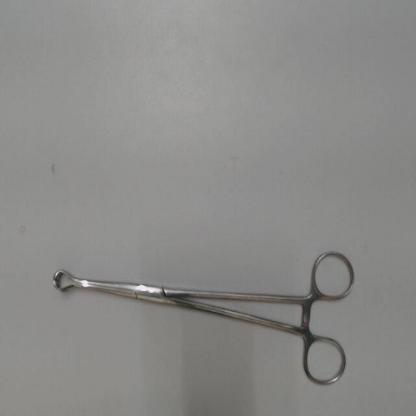8 Babcock Tissue Forceps: (48, 242, 358, 392)
